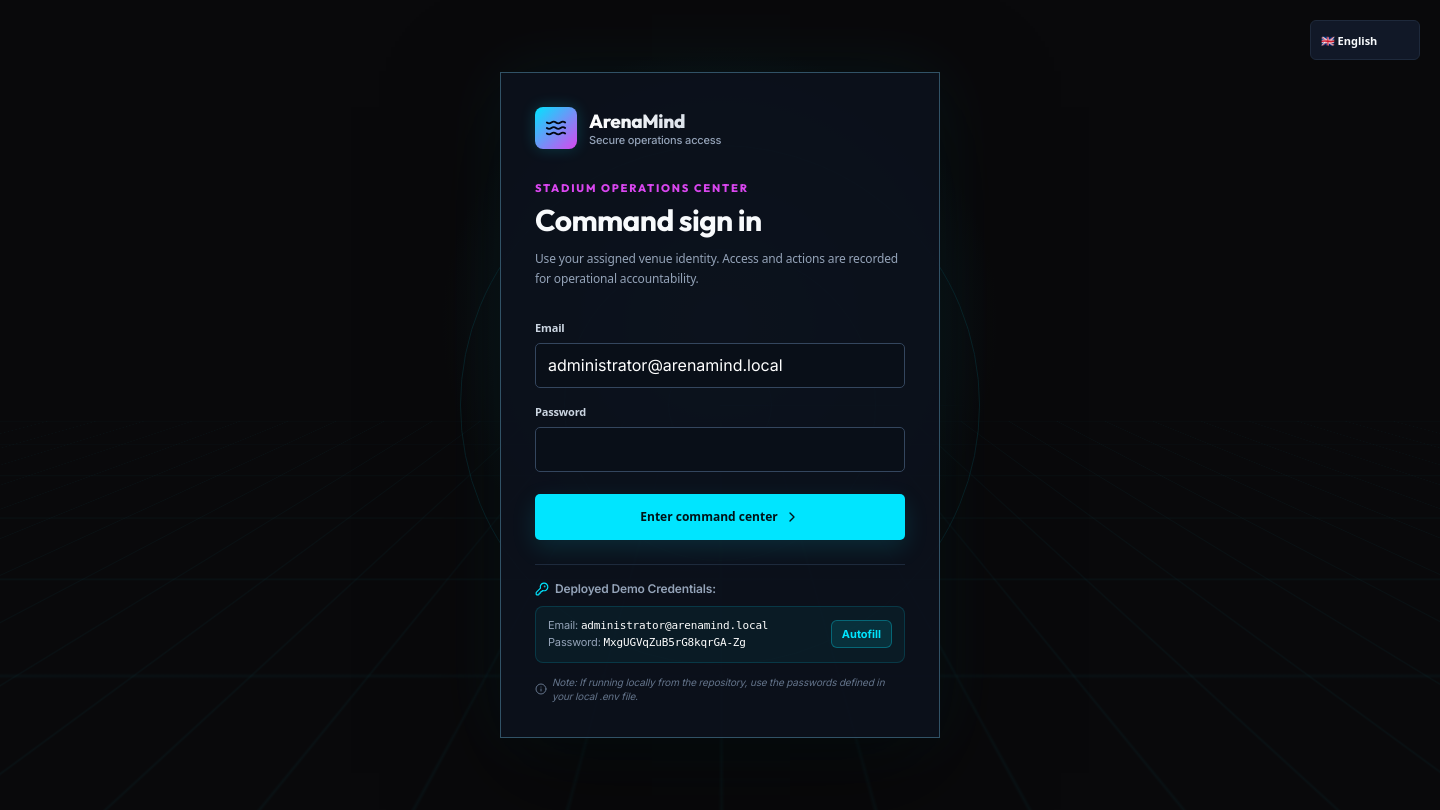
OperationsDashboard › allows autofilling the deployed demo credentials on the login screen
expect the password field labelled "Password" is empty: met, box [535,427,905,472]
Click the button "Autofill". click: (861, 634)
box: [831,620,892,648]
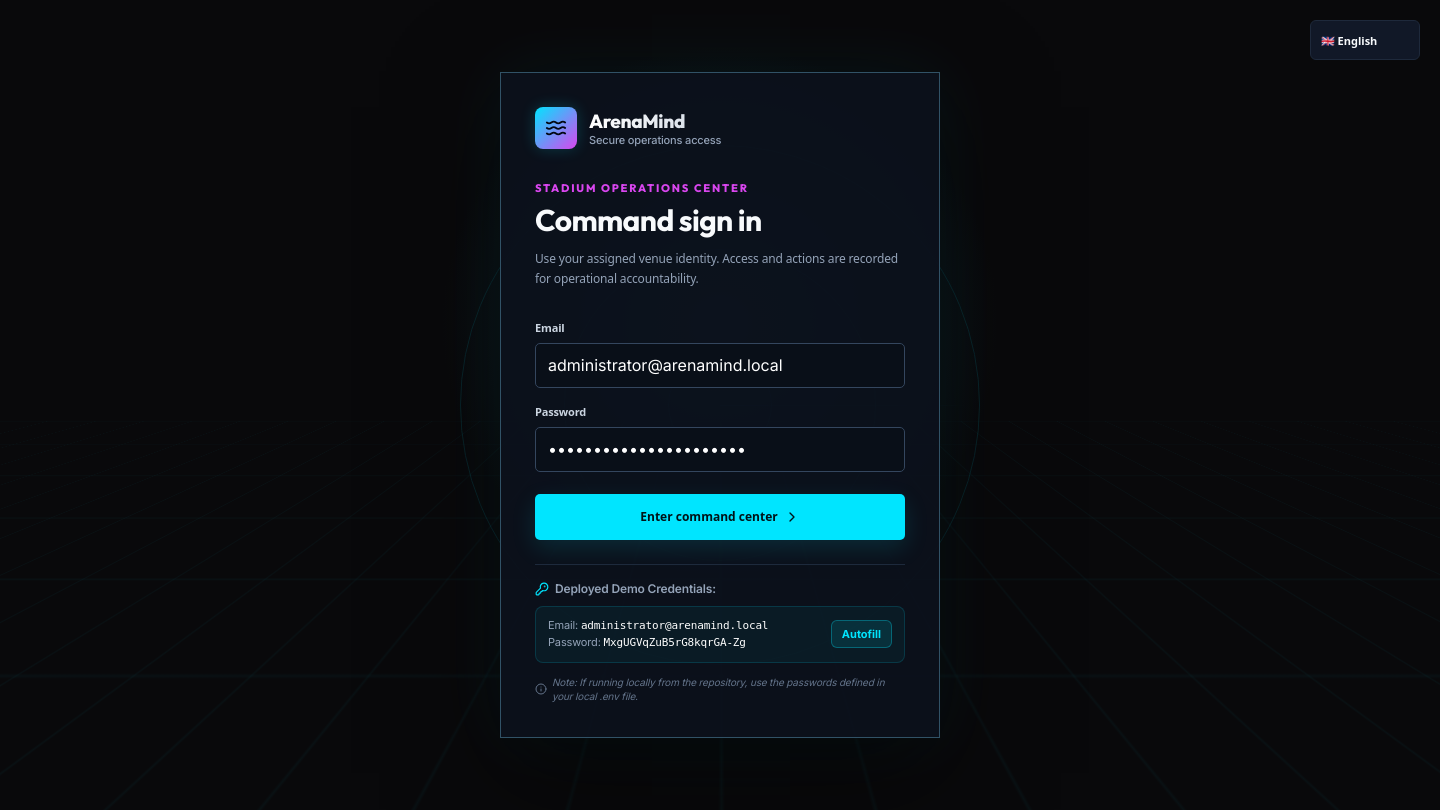
expect the field labelled "Email" holds "administrator@arenamind.local": met, box [535,343,905,388]
expect the password field labelled "Password" holds "MxgUGVqZuB5rG8kqrGA-Zg": met, box [535,427,905,472]
